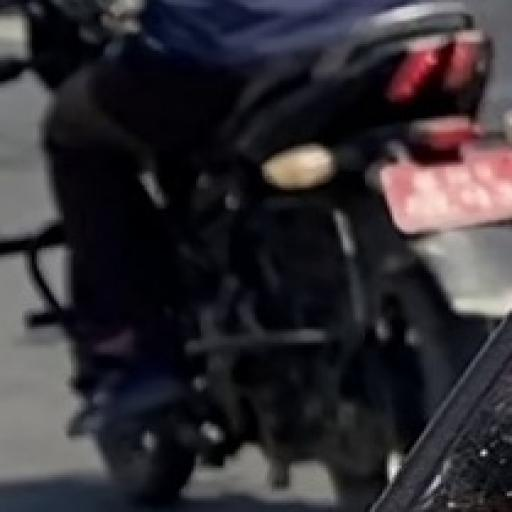license_plate: (375, 145, 510, 241)
